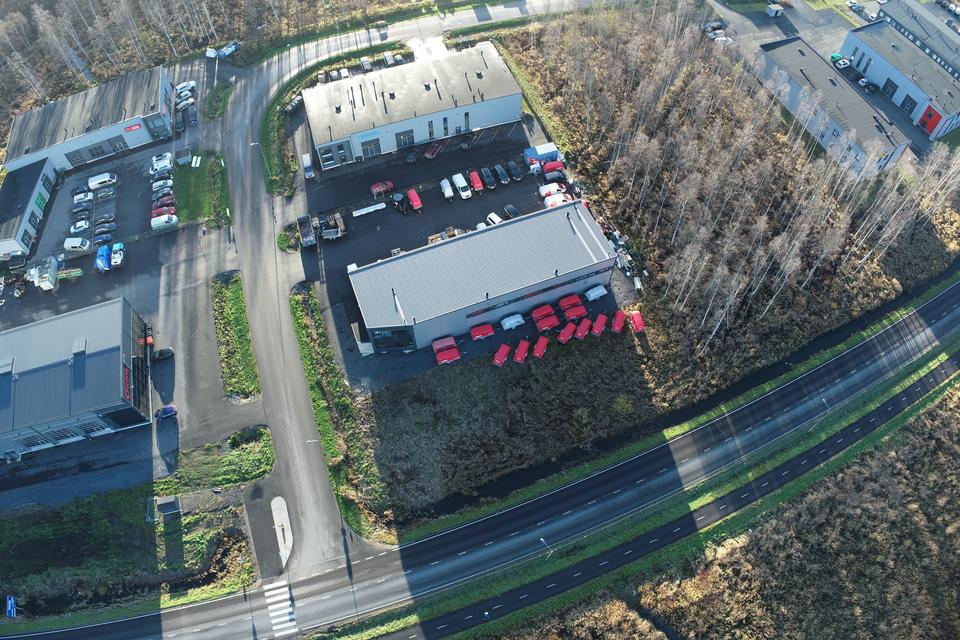intersection: (228, 509, 409, 640)
